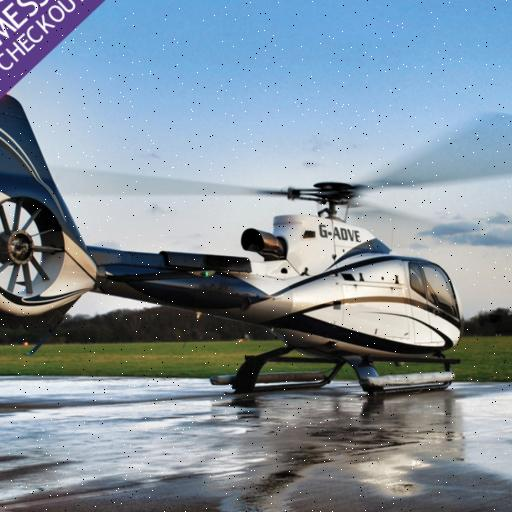helicopter: (1, 84, 479, 402)
